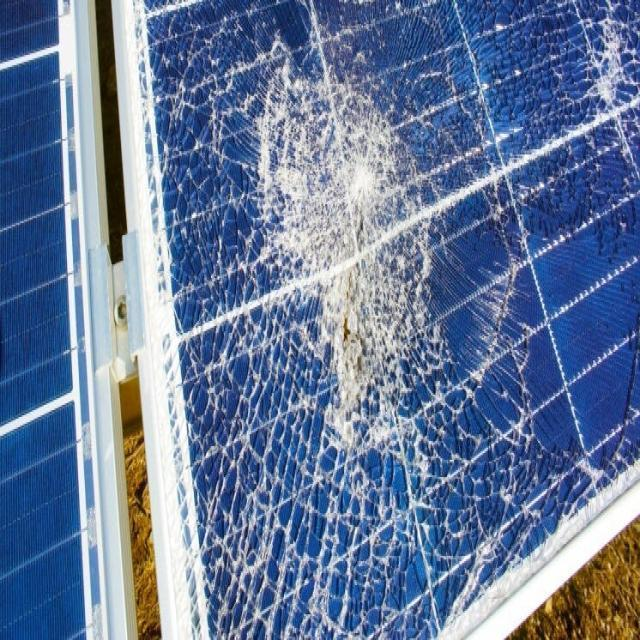Physical-damage: (128, 2, 640, 640)
